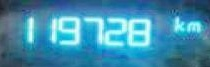1: (25, 15, 35, 44), (48, 15, 55, 45)
2: (103, 15, 125, 45)
7: (82, 15, 102, 44)
8: (127, 16, 148, 46)
9: (57, 14, 78, 45)
X: (172, 13, 183, 31), (183, 20, 200, 31)
